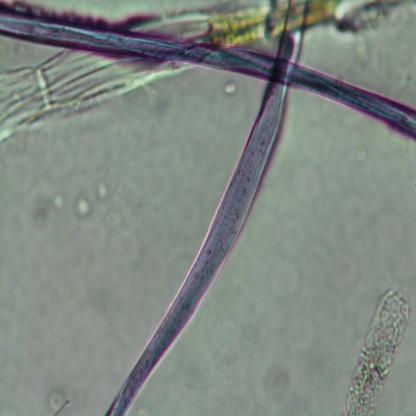Background material: (0, 52, 171, 141), (133, 0, 416, 35), (339, 289, 412, 414), (72, 188, 94, 220), (218, 76, 243, 97), (52, 386, 70, 415), (52, 190, 66, 213), (96, 180, 110, 198)
Microfibre: (102, 1, 308, 416), (0, 4, 416, 142)
